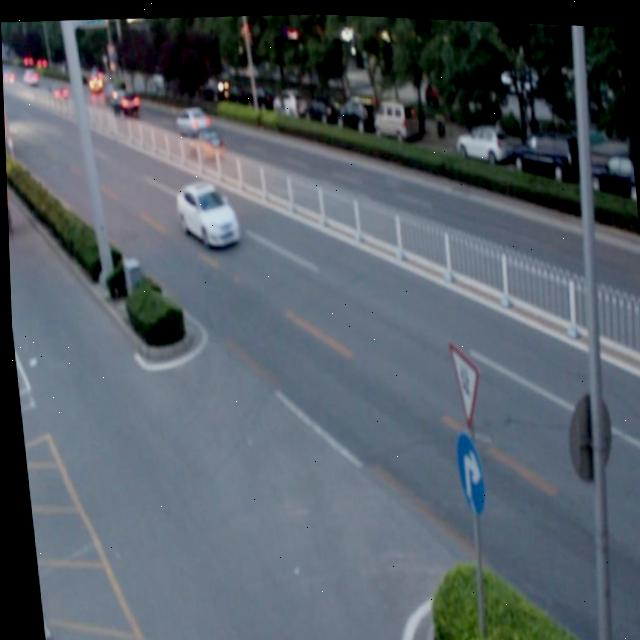car: (174, 178, 239, 249), (179, 122, 223, 161), (174, 103, 214, 139)
